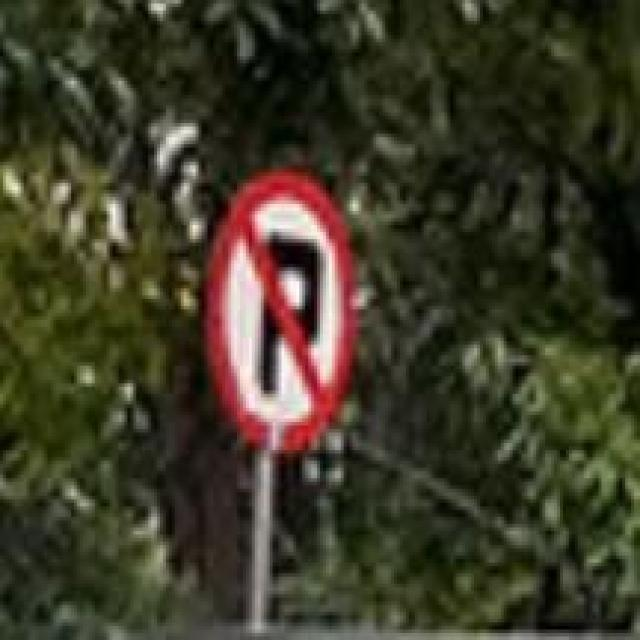traffic sign: (205, 172, 356, 453)
